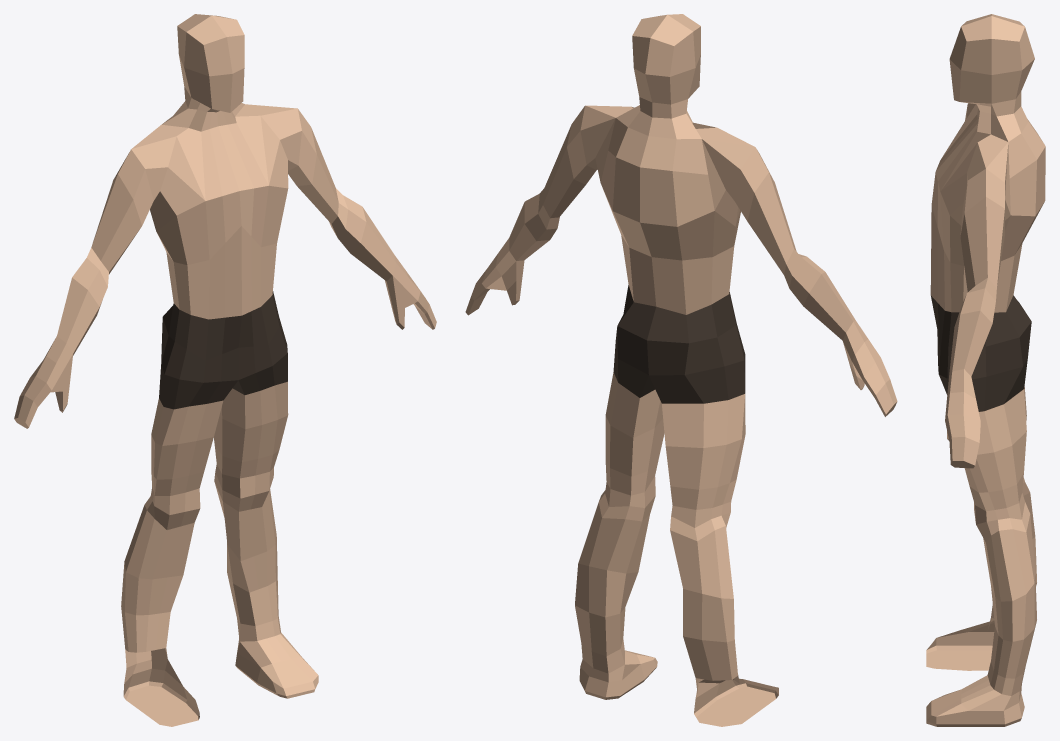
File: 07wMEaAf6x.glb
3 renders of one model, left to right at view 1: azimuth 30°, elevation 25°; view 2: azimuth 150°, elevation 25°; view 3: azimuth 270°, elevation 25°, orthographic. The views are drawn at different scales.
Parts seen in each view (by area): view 1: Man; view 2: Man; view 3: Man.
Boxes of the visible parts, left/top/right/bottom form: Man: left=14, top=14, right=436, bottom=726; Man: left=465, top=14, right=897, bottom=726; Man: left=926, top=14, right=1045, bottom=726.
Size of the model in its own units: 1.8 by 2.77 by 0.4459.
